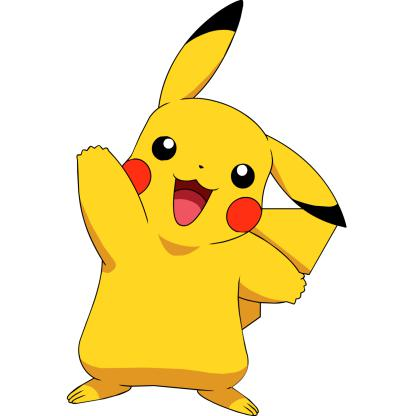Pikachu: (48, 1, 353, 416)
